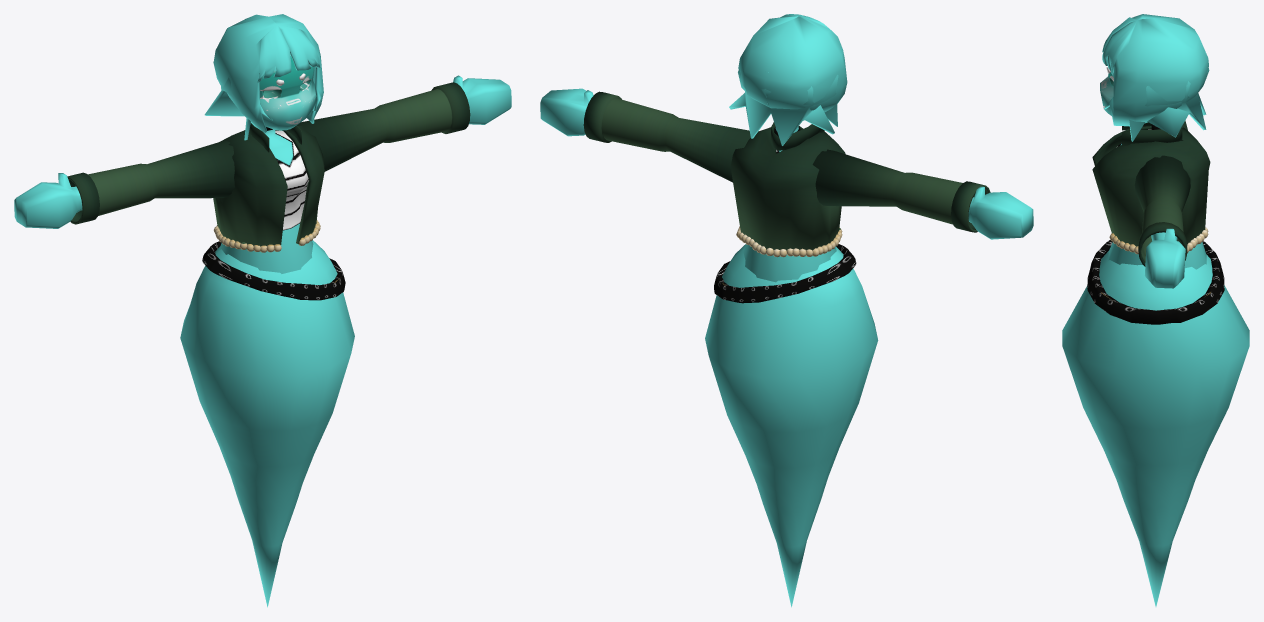
The model's file is DrunkGhostPose1.fbx.
3 views of the same model, side by side, from view 1: azimuth 30°, elevation 25°; view 2: azimuth 150°, elevation 25°; view 3: azimuth 270°, elevation 25° (orthographic).
Parts seen in each view (by area): view 1: Body, Clothes; view 2: Body, Clothes; view 3: Body, Clothes.
Part boxes in pixels (box(x1,y1,x2,y2)): Body: box(14, 14, 511, 607); Clothes: box(67, 82, 470, 300); Body: box(540, 14, 1033, 607); Clothes: box(583, 91, 990, 303); Body: box(1062, 14, 1249, 606); Clothes: box(1087, 121, 1224, 324).
Size of the model in its own units: 842 by 984 by 283.
Materials: 2 (2 with a texture image).
